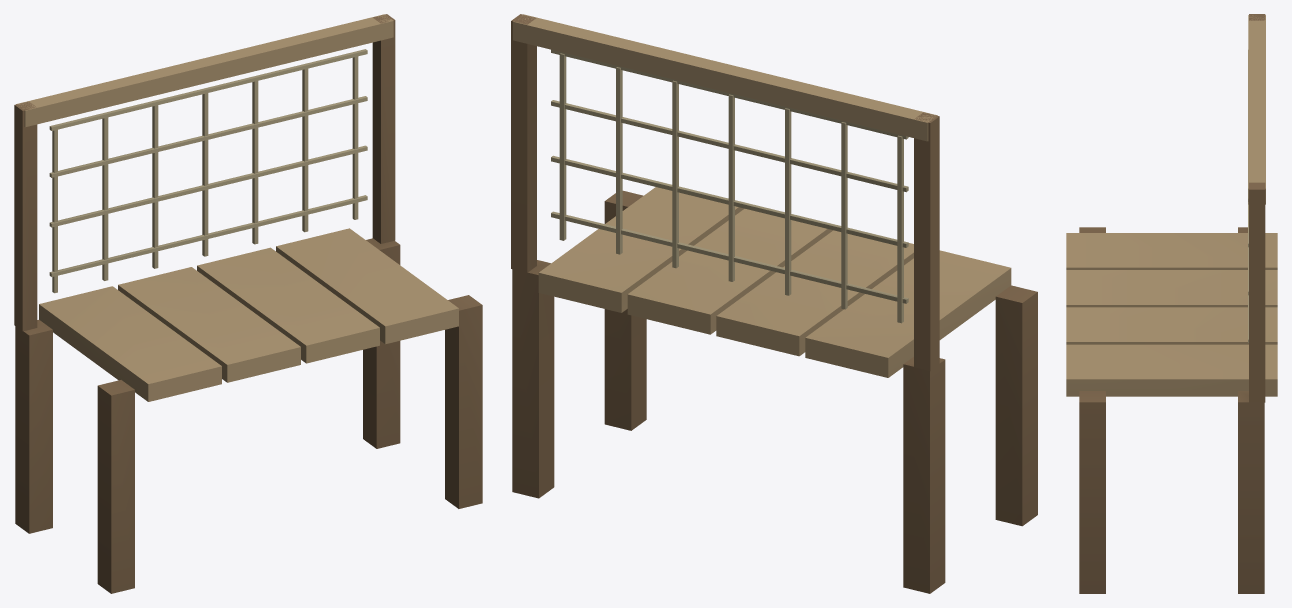
The model's file is net_workbench.glb.
3 views of the same model, side by side, from view 1: azimuth 30°, elevation 25°; view 2: azimuth 150°, elevation 25°; view 3: azimuth 270°, elevation 25° (orthographic). The views are drawn at different scales.
Parts seen in each view (by area): view 1: net_workbench; view 2: net_workbench; view 3: net_workbench.
Part boxes in pixels (box(x1,y1,x2,y2)): net_workbench: box(14, 14, 482, 593); net_workbench: box(511, 14, 1037, 593); net_workbench: box(1066, 14, 1277, 593).
Size of the model in its own units: 1.42 by 1.52 by 0.72.
